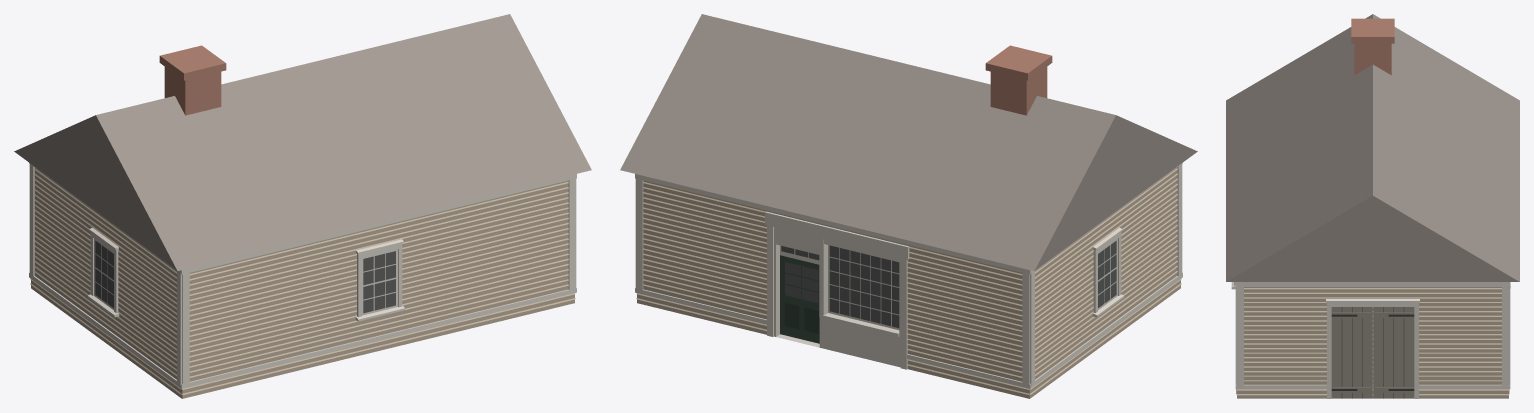
Rendered from goss_cobb_saddlery__shop_1833.glb.
The picture shows the model from 3 angles, left to right: view 1: azimuth 30°, elevation 25°; view 2: azimuth 150°, elevation 25°; view 3: azimuth 270°, elevation 25°; orthographic projection. The views are drawn at different scales.
Visible parts, largest first — view 1: goss_cobb_saddlery__shop_1833; view 2: goss_cobb_saddlery__shop_1833; view 3: goss_cobb_saddlery__shop_1833.
Boxes of the visible parts, x1=… form: goss_cobb_saddlery__shop_1833: x1=14, y1=14, x2=591, y2=398; goss_cobb_saddlery__shop_1833: x1=620, y1=14, x2=1197, y2=398; goss_cobb_saddlery__shop_1833: x1=1226, y1=14, x2=1519, y2=398.
Size of the model in its own units: 9.64 by 5.85 by 6.6.
